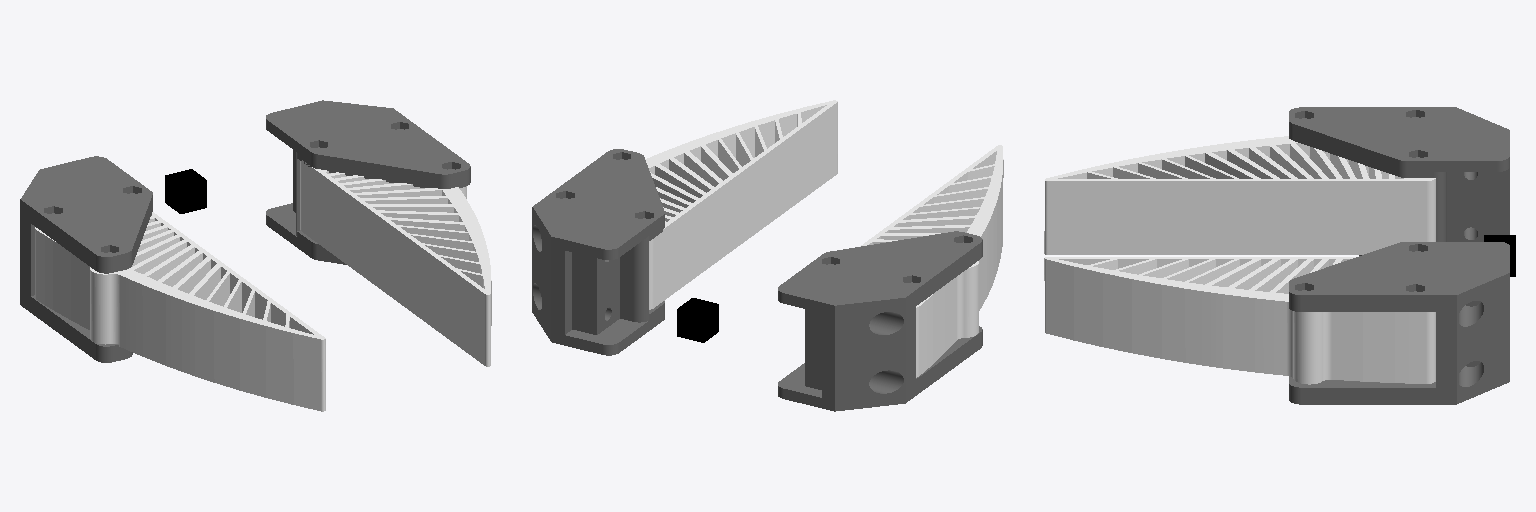
The robot description file, URDF, robot "tri_finray_gripper":
<?xml version="1.0" encoding="utf-8"?>
<robot name="tri_finray_gripper">
  <material name="black">
    <color rgba="0.0 0.0 0.0 1.0"/>
  </material>
  <material name="white">
    <color rgba="1.0 1.0 1.0 1.0"/>
  </material>
  <material name="gray">
    <color rgba="0.5 0.5 0.5 1.0"/>
  </material>
  <link name="base_link">
    <visual>
      <origin rpy="0 0 0" xyz="0 0 0"/>
      <geometry>
        <box size="0.01 0.01 0.01"/>
      </geometry>
      <material name="black"/>
    </visual>
  </link>
  <link name="finger_holder_left">
    <visual>
      <origin rpy="0 0 0" xyz="0 0 0"/>
      <geometry>
        <mesh filename="package://tri_finray_gripper/meshes/wsg50_mount - finger_holder_left.obj" scale="0.001 0.001 0.001"/>
      </geometry>
      <material name="gray"/>
    </visual>
    <collision>
      <geometry>
        <box size="0.04 0.06979999499999999 0.038"/>
      </geometry>
      <origin rpy="0.0 -0.0 0.0" xyz="-0.02 -0.11160000249999999 0.0"/>
    </collision>
  </link>
  <link name="finger_holder_right">
    <visual>
      <origin rpy="0 0 0" xyz="0 0 0"/>
      <geometry>
        <mesh filename="package://tri_finray_gripper/meshes/wsg50_mount - finger_holder_right.obj" scale="0.001 0.001 0.001"/>
      </geometry>
      <material name="gray"/>
    </visual>
    <collision>
      <geometry>
        <box size="0.04 0.06979999499999999 0.038"/>
      </geometry>
      <origin rpy="0.0 -0.0 0.0" xyz="0.02 -0.11160000249999999 0.0"/>
    </collision>
  </link>
  <link name="soft_finger_left">
    <visual>
      <origin rpy="0 0 0" xyz="0 0 0"/>
      <geometry>
        <mesh filename="package://tri_finray_gripper/meshes/soft_gripper_finger.obj" scale="0.001 0.001 0.001"/>
      </geometry>
      <material name="white"/>
    </visual>
    <collision>
      <geometry>
        <box size="0.039999924 0.025800001000000003 0.123364487"/>
      </geometry>
      <origin rpy="0.0 -0.0 0.0" xyz="0.019999962 -0.012900000500000001 -0.0616822435"/>
    </collision>
  </link>
  <link name="soft_finger_right">
    <visual>
      <origin rpy="0 0 0" xyz="0 0.0 0"/>
      <geometry>
        <mesh filename="package://tri_finray_gripper/meshes/soft_gripper_finger.obj" scale="0.001 0.001 0.001"/>
      </geometry>
      <material name="white"/>
    </visual>
    <collision>
      <geometry>
        <box size="0.039999924 0.025800001000000003 0.123364487"/>
      </geometry>
      <origin rpy="0.0 -0.0 0.0" xyz="0.019999962 -0.012900000500000001 -0.0616822435"/>
    </collision>
  </link>
  <joint name="base_to_left_holder" type="fixed">
    <parent link="base_link"/>
    <child link="finger_holder_left"/>
    <origin rpy="0 0 0" xyz="-0.03 0.08 0"/>
  </joint>
  <joint name="base_to_right_holder" type="fixed">
    <parent link="base_link"/>
    <child link="finger_holder_right"/>
    <origin rpy="0 0 0" xyz="0.03 0.08 0"/>
  </joint>
  <joint name="left_holder_to_finger" type="fixed">
    <parent link="finger_holder_left"/>
    <child link="soft_finger_left"/>
    <origin rpy="-1.57 3.14 0" xyz="0.0 -0.1 0.012"/>
  </joint>
  <joint name="right_holder_to_finger" type="fixed">
    <parent link="finger_holder_right"/>
    <child link="soft_finger_right"/>
    <origin rpy="-1.57 0 0" xyz="0.0 -0.1 -0.012"/>
  </joint>
</robot>

--- What the picture shows (computed from the rendered views, not written in the file) ---
3 views of the same robot in one strip: view 1: azimuth 30°, elevation 25°; view 2: azimuth 150°, elevation 25°; view 3: azimuth 270°, elevation 25° (orthographic).
Robot: tri_finray_gripper — 5 links, 4 joints (4 fixed); root link base_link; default pose: all joints at 0.
Visible links, largest first — view 1: soft_finger_left, soft_finger_right, finger_holder_left, finger_holder_right, base_link; view 2: finger_holder_left, soft_finger_right, finger_holder_right, soft_finger_left, base_link; view 3: soft_finger_left, soft_finger_right, finger_holder_right, finger_holder_left.
Link boxes in pixels (x1=…): soft_finger_left: x1=35, y1=212, x2=325, y2=411; soft_finger_right: x1=300, y1=160, x2=491, y2=366; finger_holder_left: x1=20, y1=156, x2=152, y2=362; finger_holder_right: x1=266, y1=100, x2=470, y2=264; base_link: x1=165, y1=169, x2=206, y2=213; finger_holder_left: x1=778, y1=231, x2=982, y2=411; soft_finger_right: x1=645, y1=100, x2=837, y2=309; finger_holder_right: x1=532, y1=149, x2=664, y2=355; soft_finger_left: x1=860, y1=145, x2=1003, y2=377; base_link: x1=677, y1=298, x2=718, y2=342; soft_finger_left: x1=1044, y1=136, x2=1435, y2=254; soft_finger_right: x1=1044, y1=257, x2=1435, y2=384; finger_holder_right: x1=1289, y1=242, x2=1509, y2=404; finger_holder_left: x1=1289, y1=107, x2=1509, y2=255.
Size in the robot's own frame: 0.14 by 0.1484 by 0.038 metres.
4 mesh visuals loaded from 3 distinct referenced files (3 OBJ).
